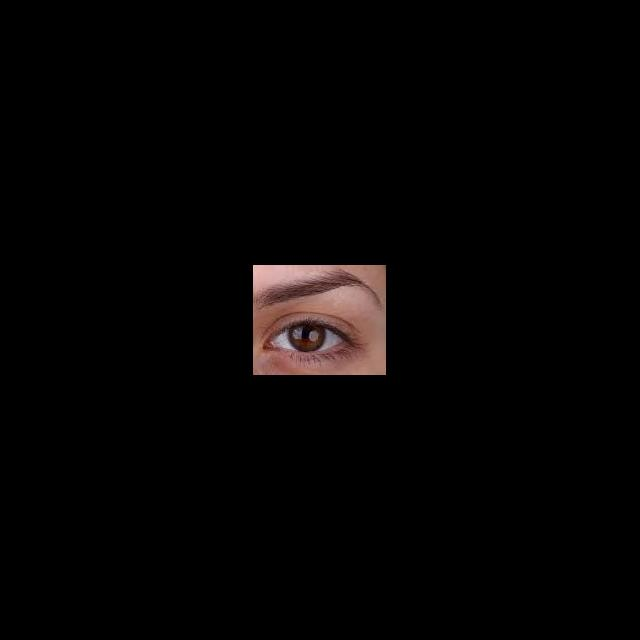eye: (275, 324, 343, 352)
iris: (289, 325, 326, 351)
